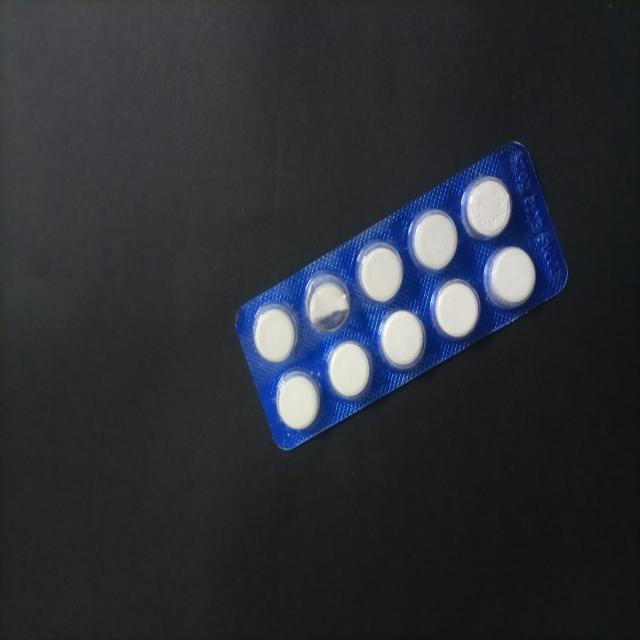defect: (302, 269, 351, 334)
